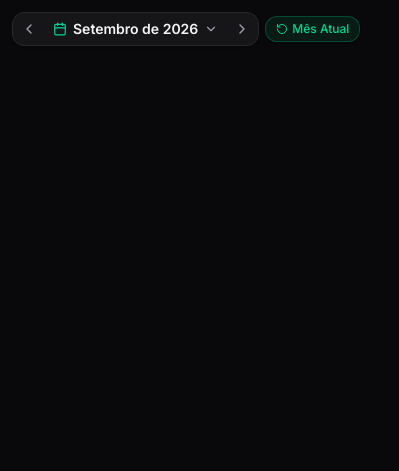
Scenario: Alertas de Limite de Categoria (60%, 80%, 100%) e Filtro de Período › GlobalDateFilter (Header Superior) › renderiza o botão com o mês selecionado e permite abrir o modal
Abre popover
Click the button titled "Selecionar mês ou personalizar intervalo" at (136, 29), box top-left (43, 15), bottom-right (228, 43)
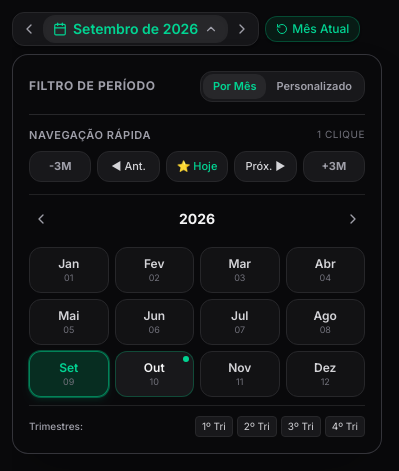
Result: the text "Filtro de Período" is shown at top-left (29, 78), bottom-right (156, 94)
Result: the button "Por Mês" is shown at top-left (203, 74), bottom-right (266, 98)
Result: the button "Personalizado" is shown at top-left (266, 74), bottom-right (362, 98)
